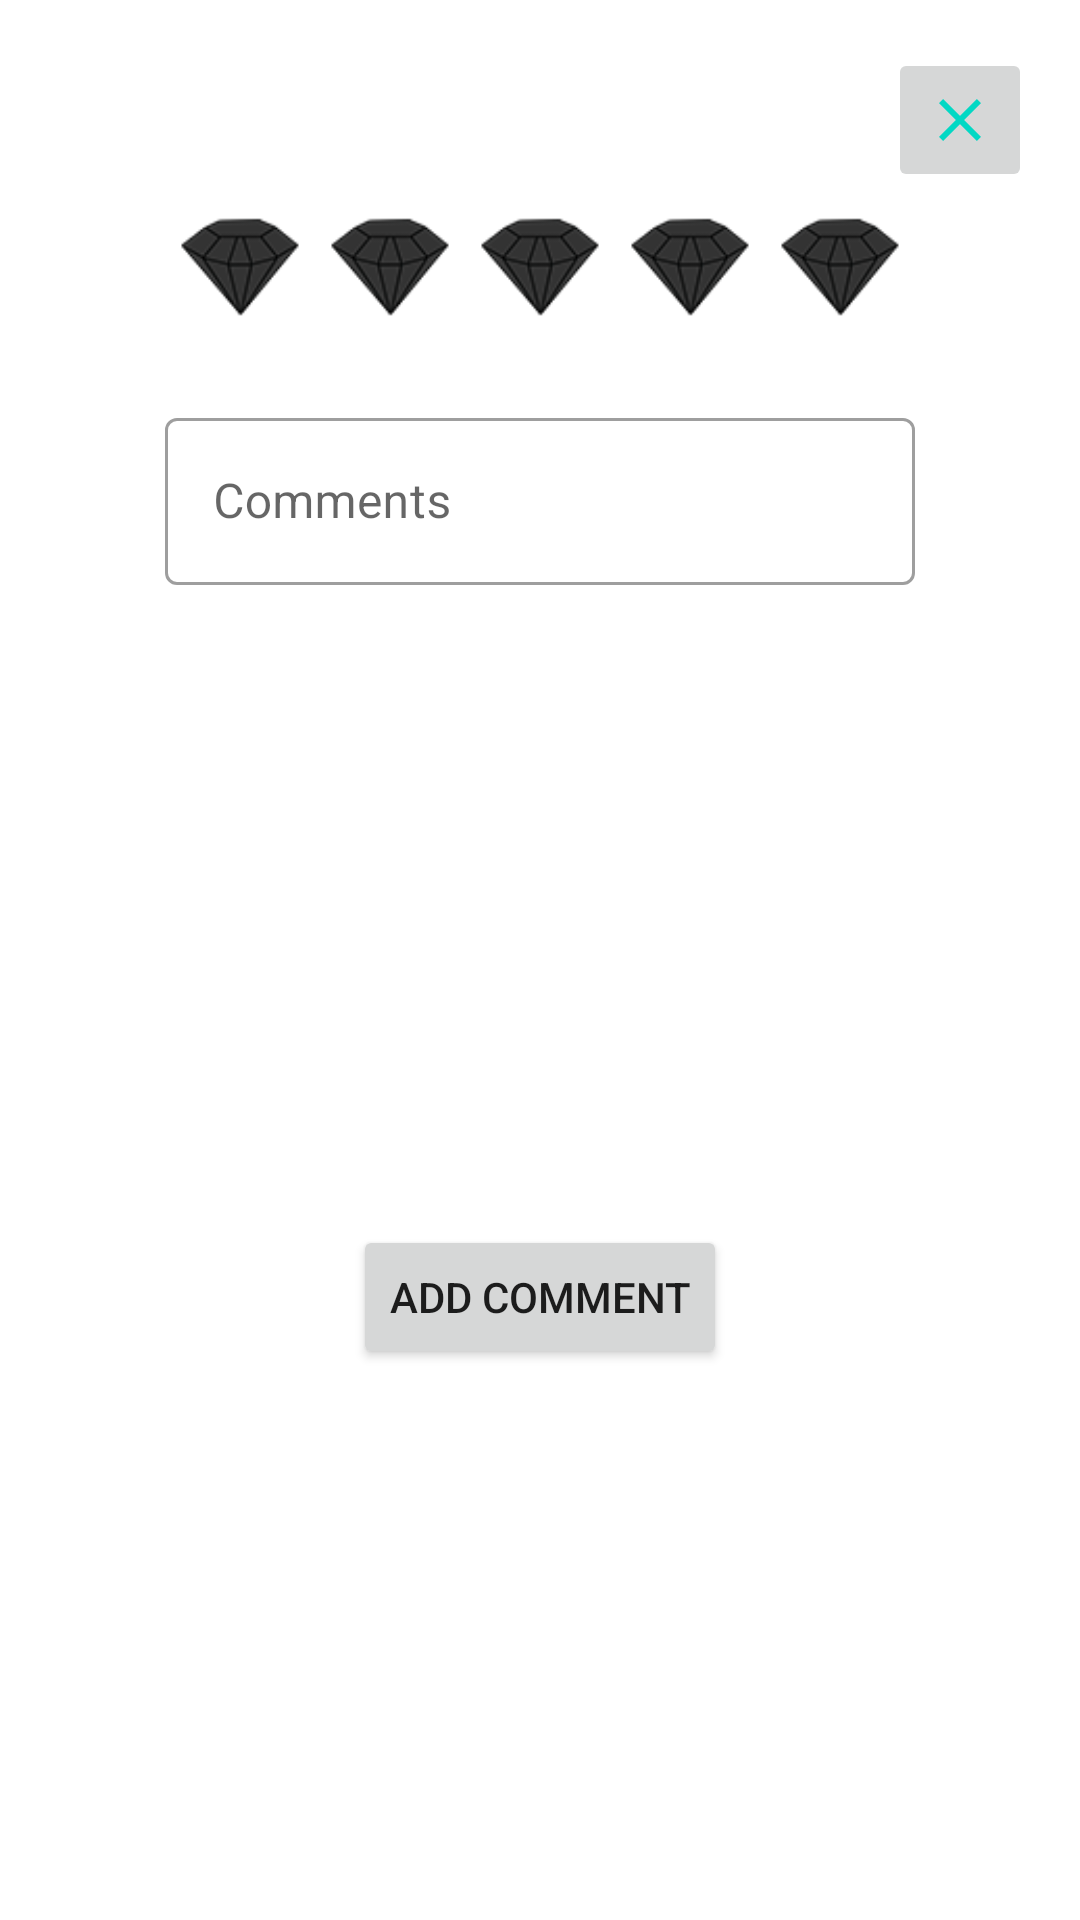

Icons on this 1080 × 1920 Android screen, each with the point to tap as (x,y):
close: (960,120)
empty dimond: (240,267), (390,267), (540,267), (690,267), (840,267)
